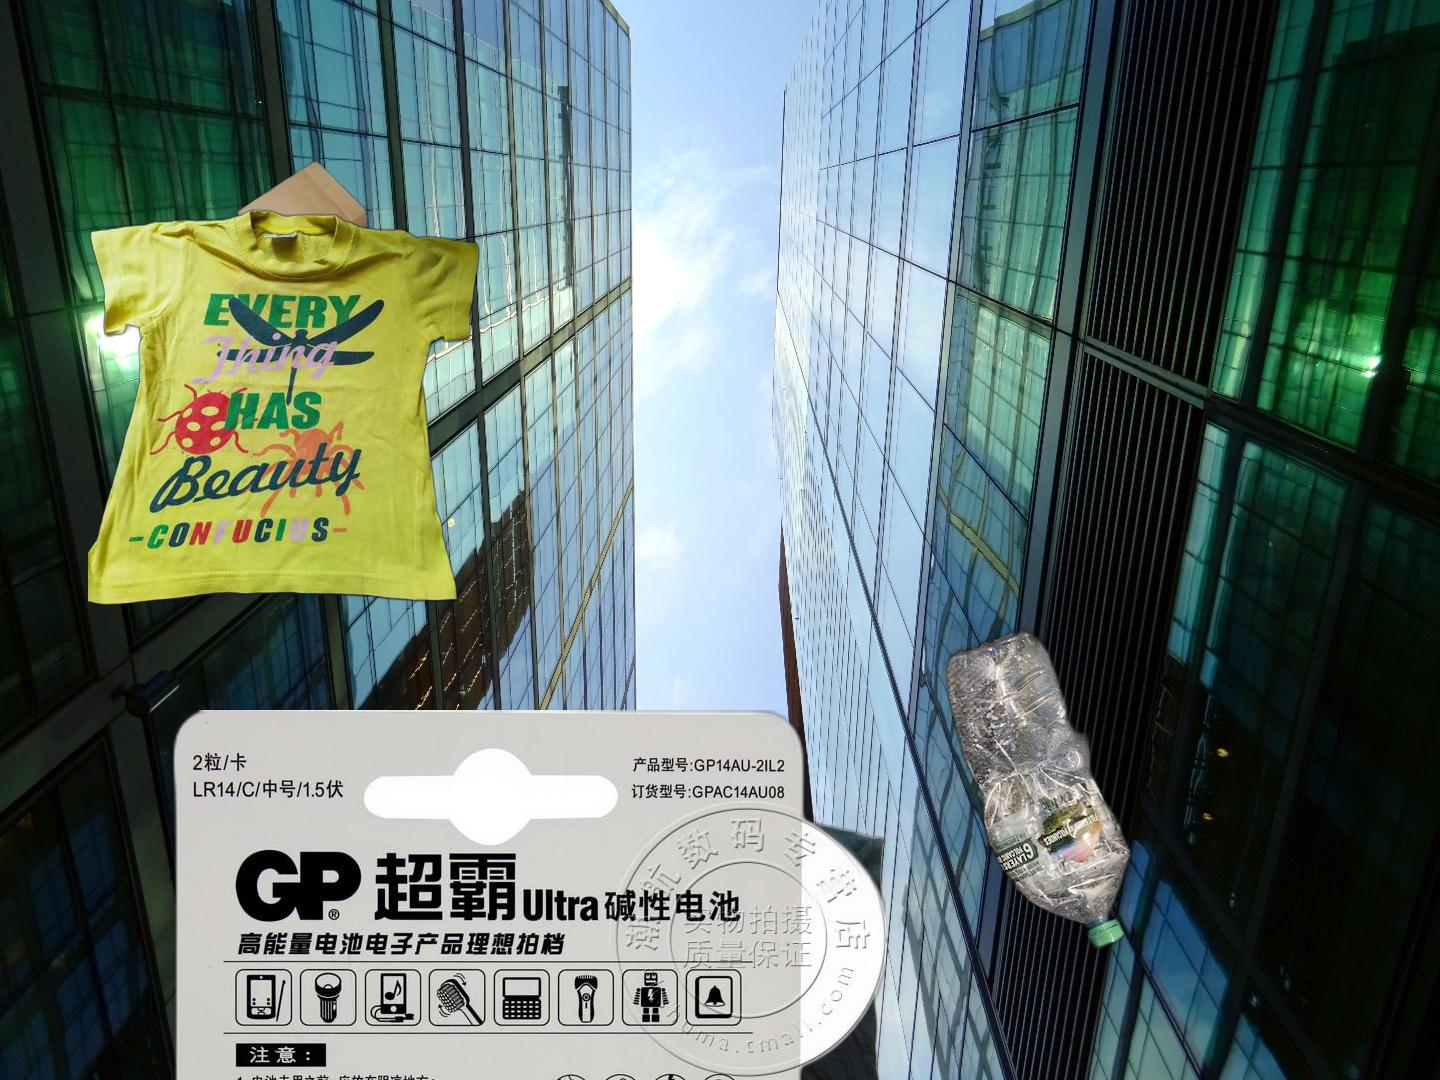battery: (166, 710, 886, 1080)
clothes: (88, 205, 482, 610), (621, 815, 889, 1080)
paper-bag: (88, 76, 376, 376)
plastic-bottles: (939, 610, 1175, 955)
